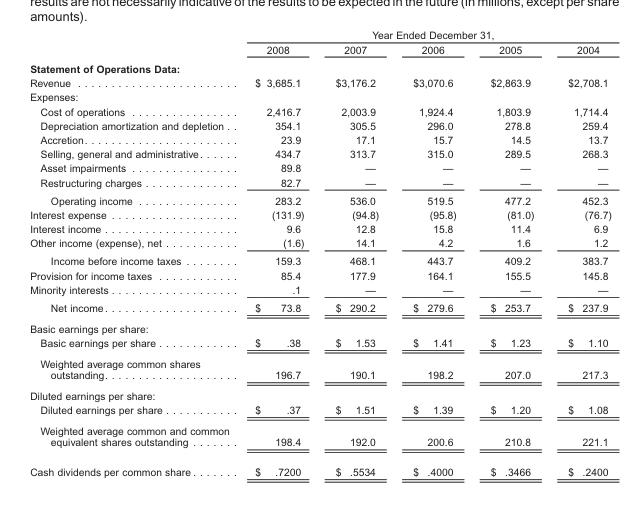table: (29, 28, 610, 477)
table column: (29, 28, 241, 477), (241, 28, 319, 477), (472, 28, 550, 477), (395, 28, 472, 477), (319, 28, 395, 477), (550, 28, 610, 477)
table column header: (29, 28, 610, 58)
table projected row header: (29, 317, 610, 335), (29, 384, 610, 402), (29, 58, 610, 75), (29, 89, 610, 103)
table row: (29, 419, 610, 456), (29, 352, 610, 384), (29, 456, 610, 477), (29, 298, 610, 317), (29, 317, 610, 335), (29, 384, 610, 402), (29, 41, 610, 58), (29, 58, 610, 75), (29, 174, 610, 191), (29, 335, 610, 352), (29, 402, 610, 419), (29, 191, 610, 207), (29, 235, 610, 251), (29, 251, 610, 267), (29, 282, 610, 298), (29, 103, 610, 118), (29, 267, 610, 282), (29, 75, 610, 89), (29, 89, 610, 103), (29, 118, 610, 132), (29, 132, 610, 146), (29, 146, 610, 160), (29, 160, 610, 174), (29, 207, 610, 221), (29, 221, 610, 235), (29, 28, 610, 41)
table spanning cell: (241, 28, 610, 41)
